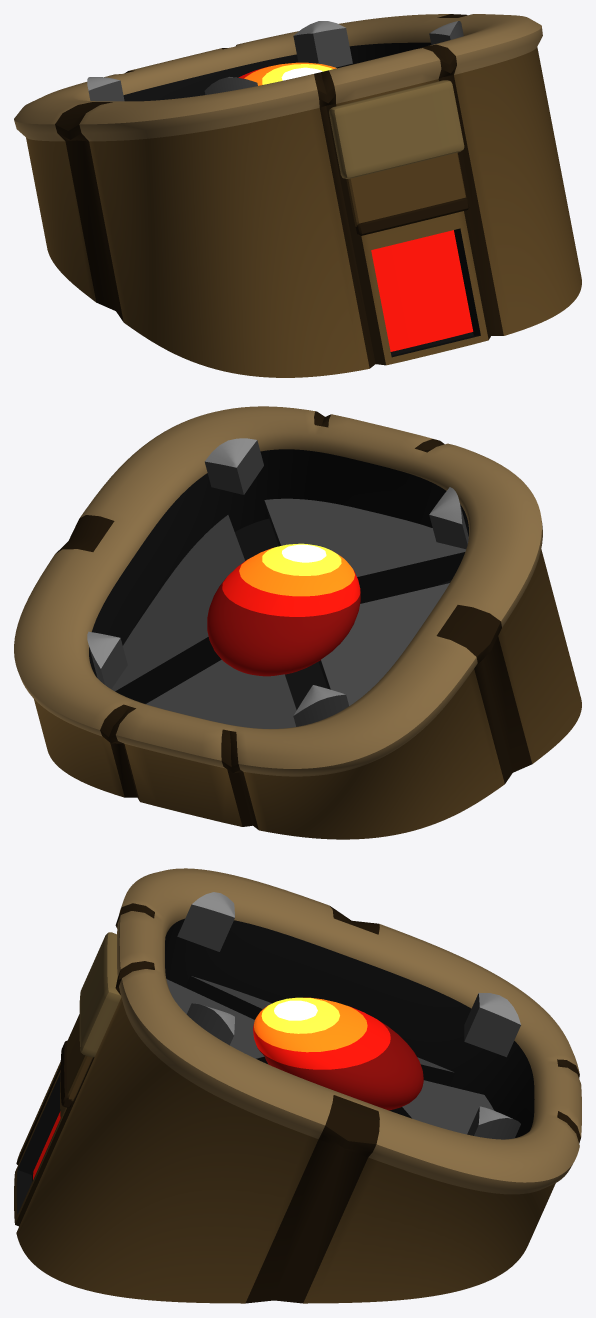
The model's file is eye_tub.glb.
3 renders of one model, top to bottom at view 1: azimuth 30°, elevation 25°; view 2: azimuth 150°, elevation 25°; view 3: azimuth 270°, elevation 25°, orthographic. The views are drawn at different scales.
Visible parts, largest first — view 1: tub, band, lamp, shutter, petal0, shutter_lip, eye, petal1, petal2, petal3; view 2: tub, eye, housing2, housing3, housing0, housing1, petal3, petal2, petal0, petal1; view 3: tub, eye, band, housing1, petal1, petal2, housing0, housing3, petal0, shutter, petal3.
Boxes of the visible parts, x1,y1,x2,y2 form: tub: [14, 14, 581, 377]; band: [329, 80, 464, 178]; lamp: [371, 230, 473, 351]; shutter: [346, 152, 466, 226]; petal0: [293, 21, 352, 67]; shutter_lip: [355, 197, 469, 235]; eye: [238, 62, 336, 85]; petal1: [87, 77, 124, 101]; petal2: [204, 77, 257, 94]; petal3: [429, 21, 463, 44]; tub: [14, 406, 581, 839]; eye: [207, 543, 360, 676]; housing2: [111, 515, 244, 703]; housing3: [264, 498, 465, 603]; housing0: [318, 583, 449, 705]; housing1: [146, 659, 296, 728]; petal3: [204, 438, 263, 494]; petal2: [429, 487, 468, 549]; petal0: [87, 631, 127, 689]; petal1: [293, 685, 348, 726]; tub: [14, 868, 581, 1303]; eye: [253, 997, 423, 1110]; band: [79, 932, 121, 1057]; housing1: [389, 1080, 493, 1134]; petal1: [464, 993, 520, 1057]; petal2: [177, 892, 234, 951]; housing0: [185, 976, 455, 1086]; housing3: [166, 979, 268, 1064]; petal0: [467, 1106, 520, 1139]; shutter: [66, 1014, 92, 1101]; petal3: [186, 1003, 234, 1045].
Size of the model in its own units: 21.26 by 11.98 by 23.54.
